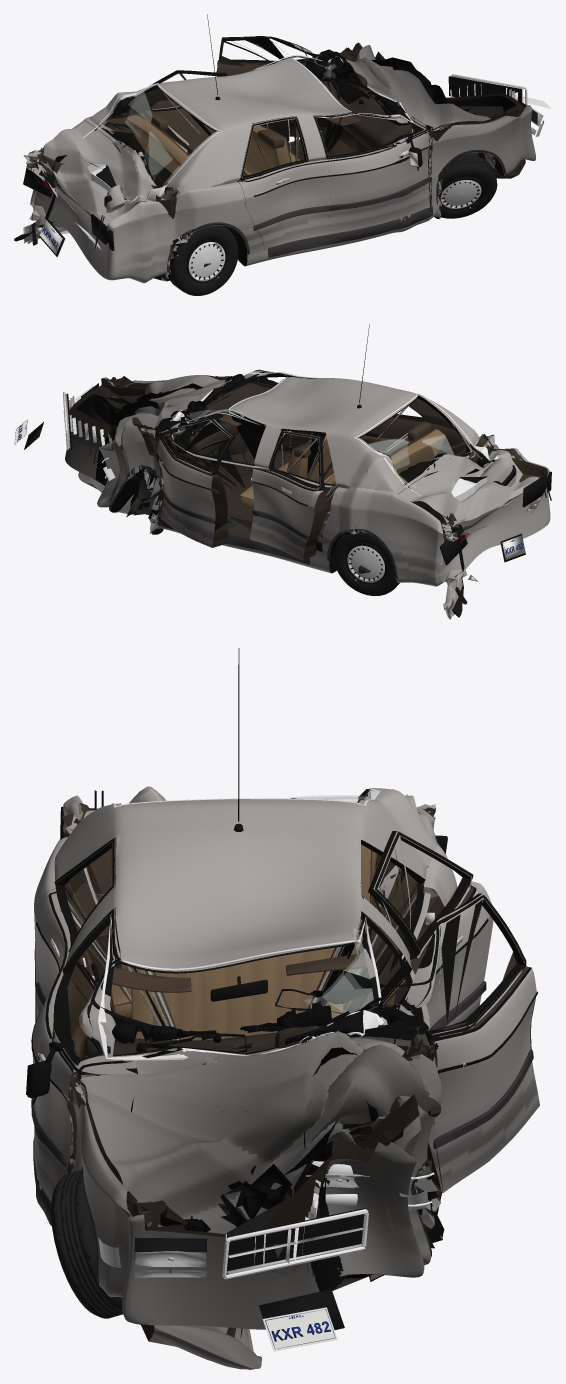
File: sedan87_front_corner_d3_lod1.glb
The picture shows the model from 3 angles, top to bottom: view 1: azimuth 30°, elevation 25°; view 2: azimuth 150°, elevation 25°; view 3: azimuth 270°, elevation 25°; orthographic projection. The views are drawn at different scales.
Parts seen in each view (by area): view 1: Body, Door_FR, Interior, Trunk, Door_RR, Hood, Glass, Wheel_RR_mesh, Ends, Trim, Wheel_FR_mesh, Trim_FR (+6 smaller); view 2: Body, Door_FL, Door_RL, Interior, Trunk, Glass, Hood, Ends, Wheel_RL_mesh, Trim, Bumper_R, Trim_FL (+6 smaller); view 3: Body, Hood, Door_FL, Interior, Ends, Door_FR, Door_RL, Glass, Wheel_FR_mesh, Trim_FL, Trim, Trim_FR (+4 smaller).
Boxes of the visible parts, x1,y1,x2,y2 form: Body: [23, 42, 535, 283]; Door_FR: [313, 113, 431, 233]; Interior: [126, 56, 415, 176]; Trunk: [37, 120, 161, 225]; Door_RR: [237, 116, 333, 250]; Hood: [328, 45, 525, 178]; Glass: [82, 54, 413, 203]; Wheel_RR_mesh: [170, 225, 238, 295]; Ends: [23, 74, 551, 256]; Trim: [167, 14, 505, 274]; Wheel_FR_mesh: [438, 154, 497, 218]; Trim_FR: [314, 92, 429, 210]; Body: [65, 376, 550, 591]; Door_FL: [153, 418, 235, 547]; Door_RL: [250, 431, 328, 560]; Interior: [170, 383, 444, 525]; Trunk: [398, 445, 538, 528]; Glass: [173, 372, 500, 500]; Hood: [78, 375, 229, 492]; Ends: [14, 383, 551, 565]; Wheel_RL_mesh: [333, 532, 399, 595]; Trim: [109, 324, 397, 579]; Bumper_R: [443, 458, 516, 619]; Trim_FL: [156, 410, 231, 531]; Body: [34, 788, 457, 1329]; Hood: [74, 1020, 441, 1369]; Door_FL: [365, 893, 539, 1192]; Interior: [83, 844, 379, 1058]; Ends: [60, 790, 447, 1351]; Door_FR: [32, 908, 137, 1202]; Door_RL: [368, 831, 493, 1028]; Glass: [98, 788, 387, 1060]; Wheel_FR_mesh: [51, 1169, 122, 1318]; Trim_FL: [275, 895, 537, 1148]; Trim: [33, 648, 441, 1284]; Trim_FR: [26, 909, 246, 1166].
Bounding box in the file's own units: 4.85 × 2.18 × 2.16.
Materials: 32 (5 with a texture image).
